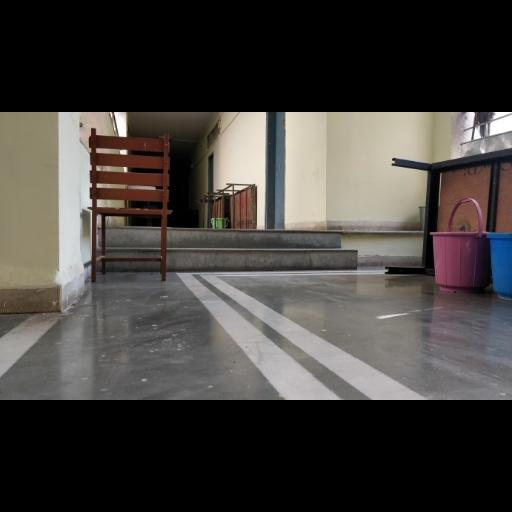stairs: (167, 228, 357, 271)
